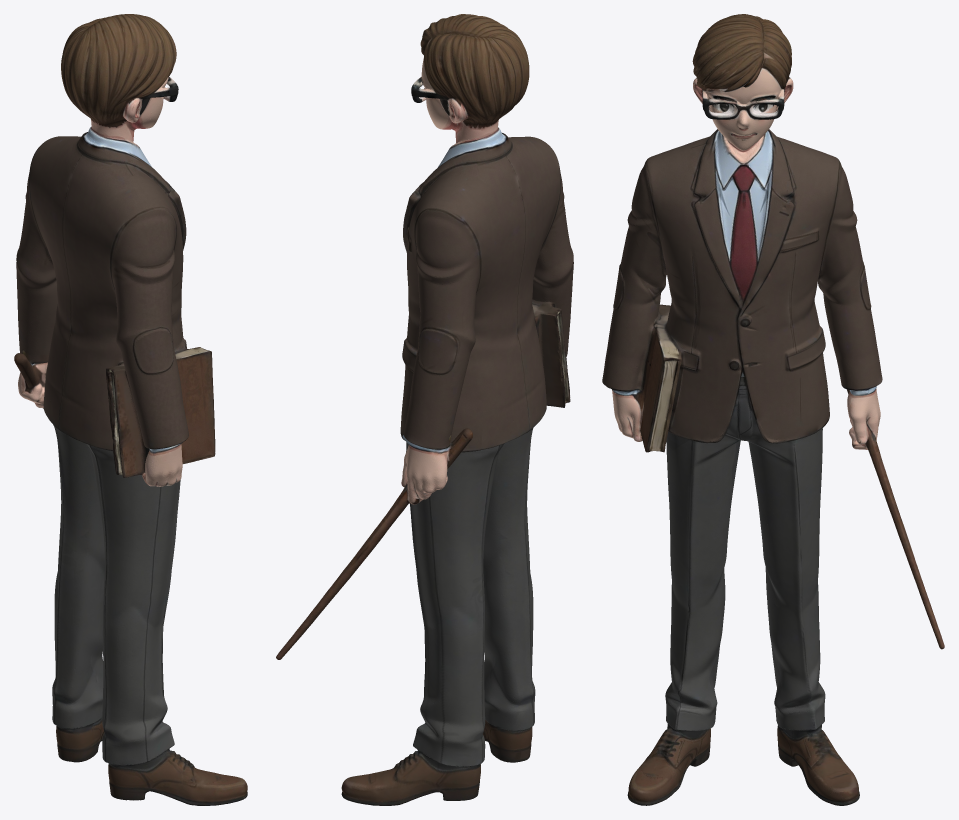
Rendered from professor+3d+model.glb.
3 renders of one model, left to right at view 1: azimuth 30°, elevation 25°; view 2: azimuth 150°, elevation 25°; view 3: azimuth 270°, elevation 25°, orthographic.
Visible parts, largest first — view 1: tripo_node_c2a57003-defa-4340-a6f1-470ac8d5d0ca; view 2: tripo_node_c2a57003-defa-4340-a6f1-470ac8d5d0ca; view 3: tripo_node_c2a57003-defa-4340-a6f1-470ac8d5d0ca.
Boxes of the visible parts, x1=… form: tripo_node_c2a57003-defa-4340-a6f1-470ac8d5d0ca: x1=14, y1=14, x2=247, y2=805; tripo_node_c2a57003-defa-4340-a6f1-470ac8d5d0ca: x1=276, y1=14, x2=573, y2=805; tripo_node_c2a57003-defa-4340-a6f1-470ac8d5d0ca: x1=602, y1=14, x2=944, y2=805.
Bounding box in the file's own units: 0.2123 × 1 × 0.4146.
Materials: 1 (1 with a texture image).
